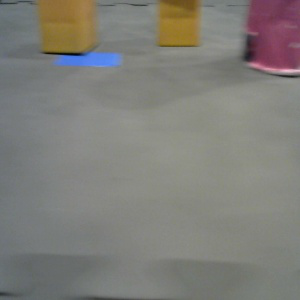right: (241, 1, 300, 75)
